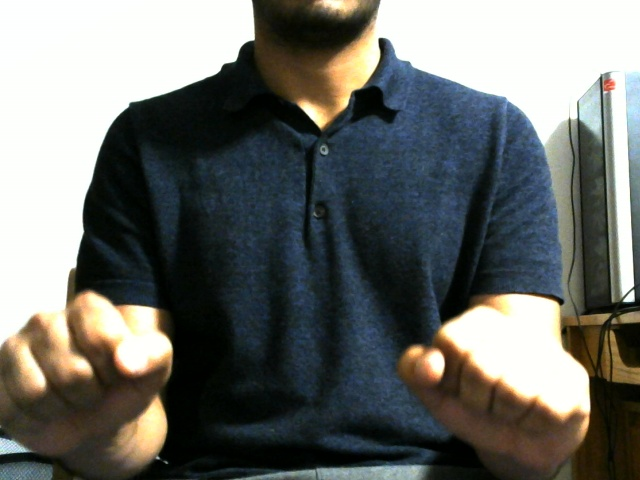can: (1, 207, 630, 480)
